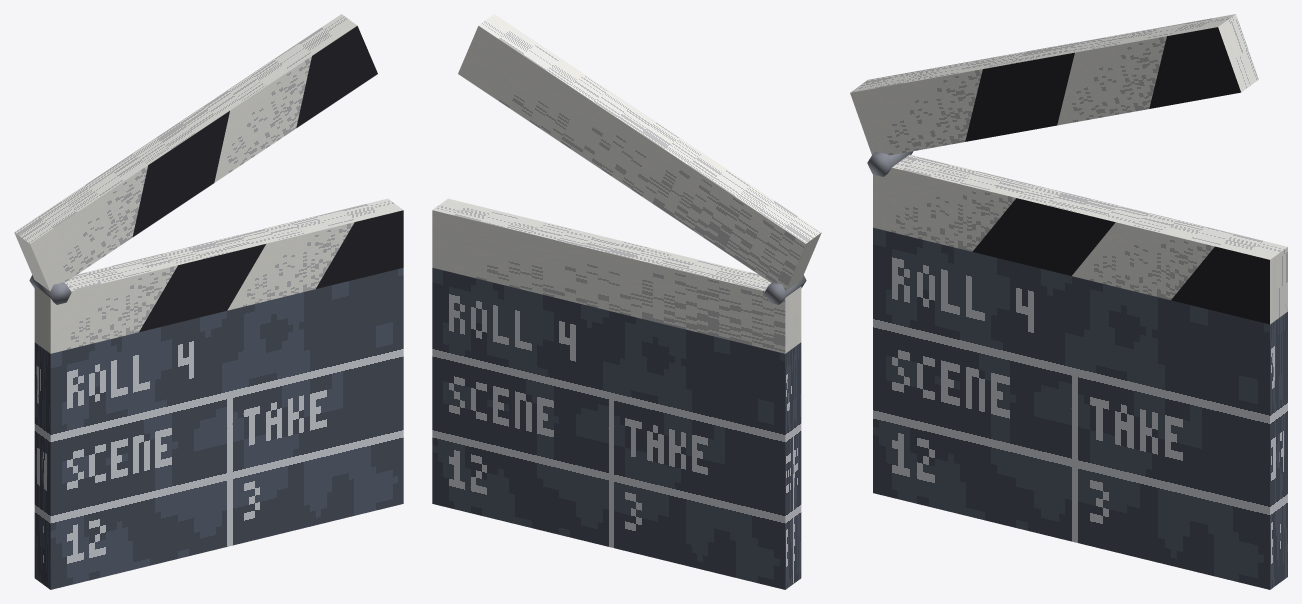
Rendered from life-filmClapper.glb.
The picture shows the model from 3 angles, left to right: view 1: azimuth 30°, elevation 25°; view 2: azimuth 150°, elevation 25°; view 3: azimuth 330°, elevation 25°; orthographic projection. The views are drawn at different scales.
Visible parts, largest first — view 1: life.filmClapper; view 2: life.filmClapper; view 3: life.filmClapper.
Boxes of the visible parts, left/top/right/bottom form: life.filmClapper: left=14, top=14, right=403, bottom=589; life.filmClapper: left=432, top=14, right=821, bottom=589; life.filmClapper: left=850, top=14, right=1287, bottom=589.
Bounding box in the file's own units: 1.25 × 1.56 × 0.1309.
Materials: 4 (3 with a texture image).
